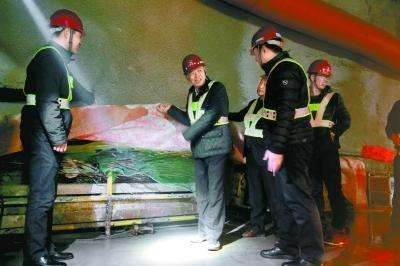red: (47, 10, 85, 55), (249, 25, 283, 65), (179, 53, 207, 86), (305, 59, 332, 90)
